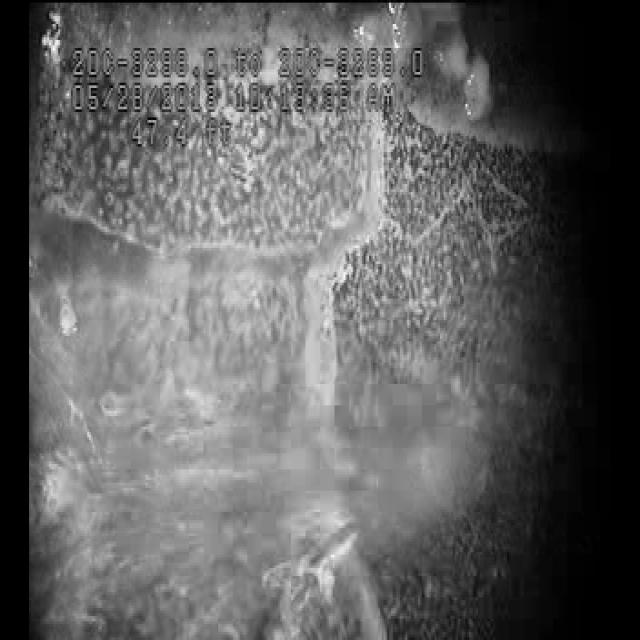Crack: (102, 157, 396, 493)
